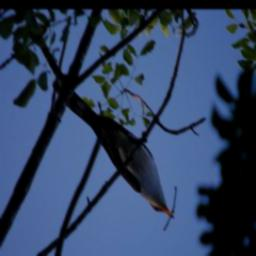Cuckoo: (67, 96, 177, 222)
